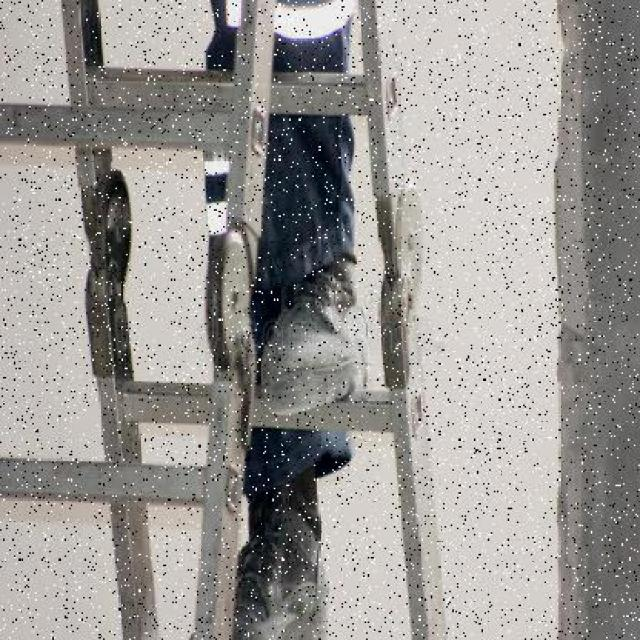shoes: (238, 476, 332, 638), (268, 252, 367, 405)
